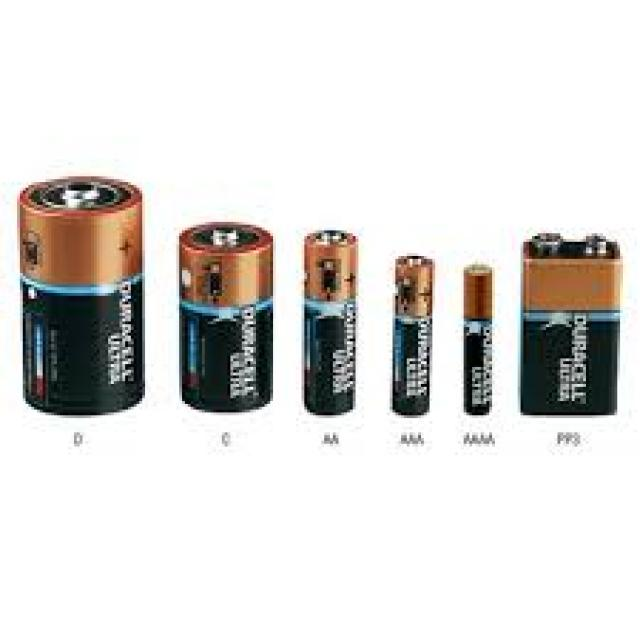non-organic waste: (21, 177, 149, 417), (174, 222, 279, 411), (517, 234, 620, 417), (306, 227, 361, 413), (392, 251, 431, 414), (457, 263, 498, 415)
